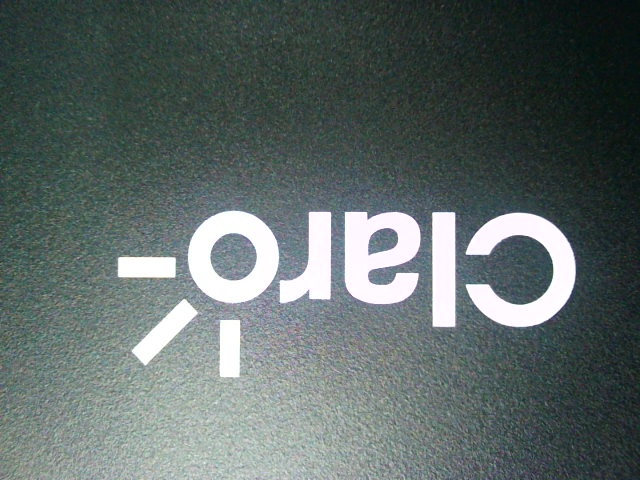BC_Claor: (107, 196, 578, 383)
